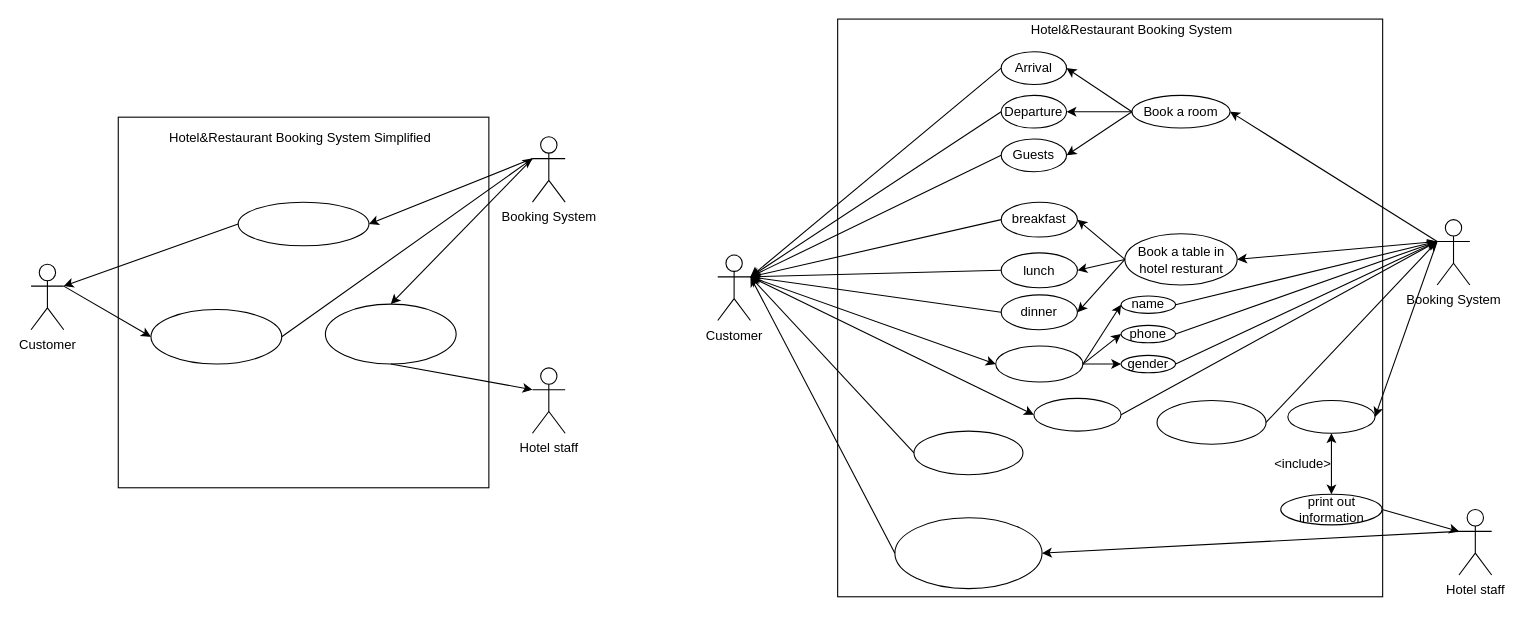
Some shapes in this 1523 by 617 pixel diagram are drawn without their labels. Each missing label, with the centre of its shape:
"do preparation" belongs at [968,553].
"Fill in the requirement form" belongs at [303,223].
"Log information into system and print information" belongs at [390,333].
"log receipt" belongs at [1211,421].
"pay online" belongs at [1077,414].
"Provide valid information and pay for the bill" belongs at [216,336].
"record data" belongs at [1331,416].
"send receipt" belongs at [968,452].
"valid information" belongs at [1039,363].
